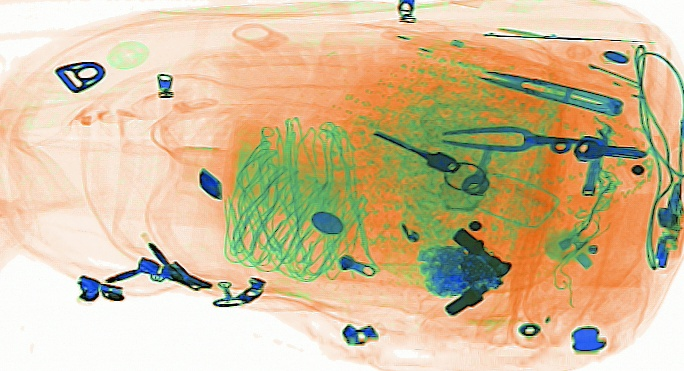scissors: (474, 69, 623, 117)
